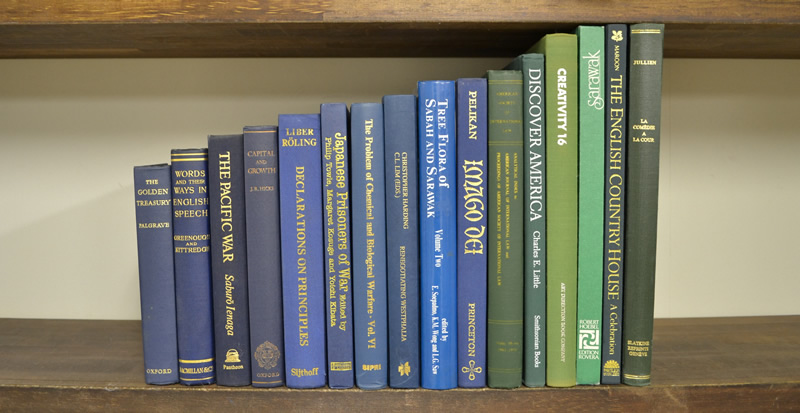book: (414, 78, 462, 391), (482, 65, 527, 388), (276, 109, 328, 388), (541, 31, 579, 389), (239, 122, 287, 389), (347, 97, 390, 391), (625, 22, 660, 383), (166, 144, 215, 384), (382, 92, 422, 386), (205, 131, 250, 386), (453, 73, 489, 391), (131, 164, 181, 387), (318, 97, 354, 390), (577, 24, 606, 384), (522, 49, 549, 386), (603, 20, 626, 387)
